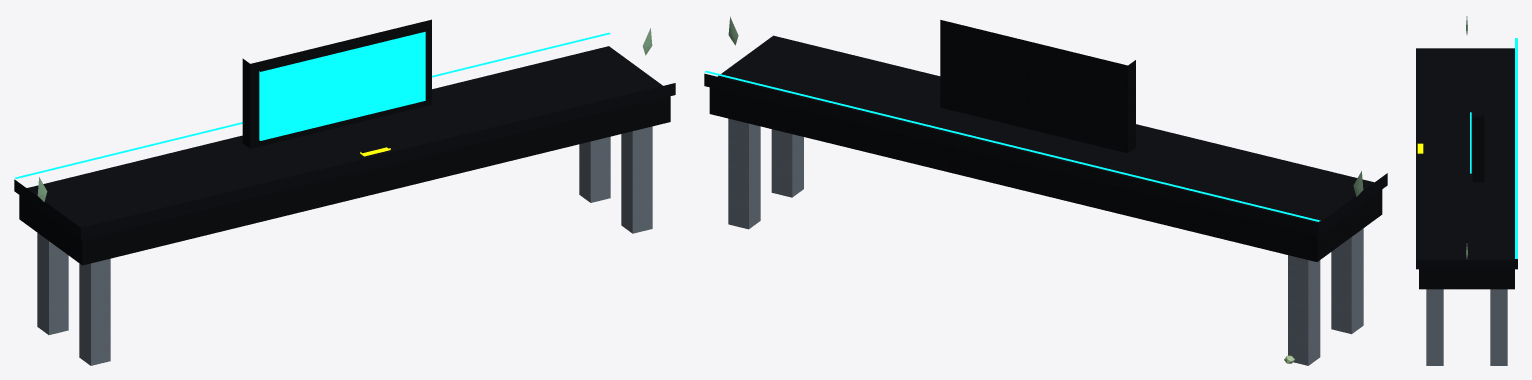
The model's file is tt_bb_scorer_table.glb.
The picture shows the model from 3 angles, left to right: view 1: azimuth 30°, elevation 25°; view 2: azimuth 150°, elevation 25°; view 3: azimuth 270°, elevation 25°; orthographic projection. The views are drawn at different scales.
Visible parts, largest first — view 1: Table_Top, Table_Apron, Monitor_Face, Legs, Monitor, Cyan_Edge; view 2: Table_Top, Table_Apron, Monitor, Legs, Cyan_Edge; view 3: Table_Top, Legs, Table_Apron, Monitor, Cyan_Edge, Monitor_Face.
Boxes of the visible parts, x1,y1,x2,y2 form: Table_Top: (14, 46, 675, 239); Table_Apron: (19, 96, 670, 265); Monitor_Face: (259, 31, 425, 140); Legs: (37, 126, 652, 365); Monitor: (242, 19, 431, 148); Cyan_Edge: (14, 32, 610, 178); Table_Top: (704, 35, 1387, 235); Table_Apron: (709, 87, 1382, 261); Monitor: (940, 20, 1135, 153); Legs: (728, 118, 1363, 365); Cyan_Edge: (704, 70, 1320, 221); Table_Top: (1416, 48, 1517, 269); Legs: (1426, 289, 1507, 365); Table_Apron: (1419, 269, 1514, 289); Monitor: (1472, 115, 1484, 182); Cyan_Edge: (1515, 38, 1517, 258); Monitor_Face: (1470, 112, 1471, 173).
Size of what is drawn, in the model's own units: 3.72 by 1.35 by 0.7.
7 materials, 3 textured.
